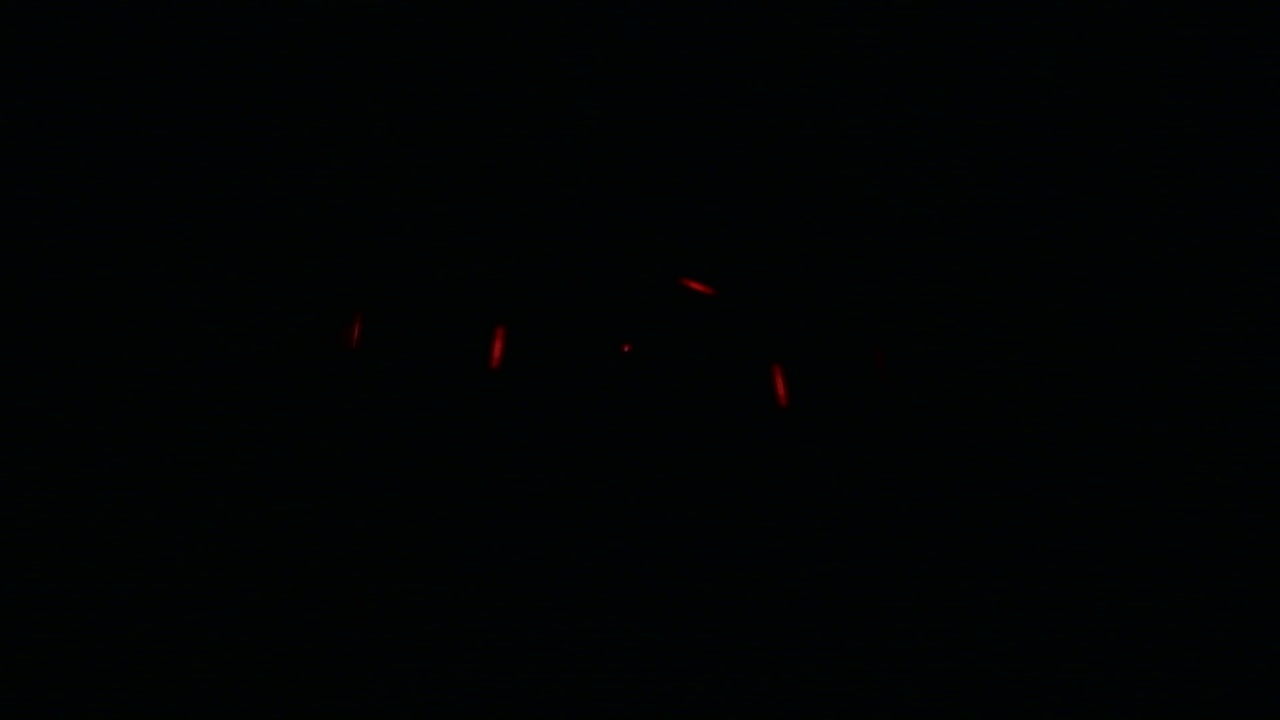lamp: (769, 361, 792, 414), (490, 322, 504, 368), (349, 313, 358, 368)
notpair2: (489, 322, 792, 414)
pair2: (349, 314, 504, 367)
